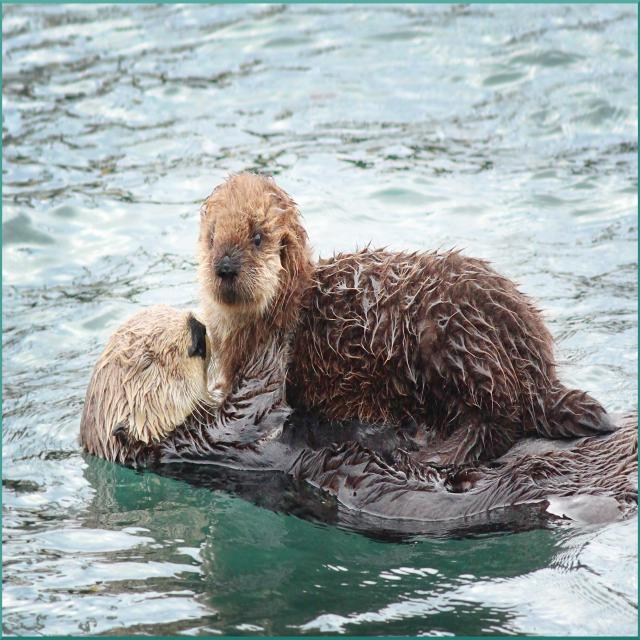otter: (83, 309, 640, 496), (203, 176, 565, 435)
